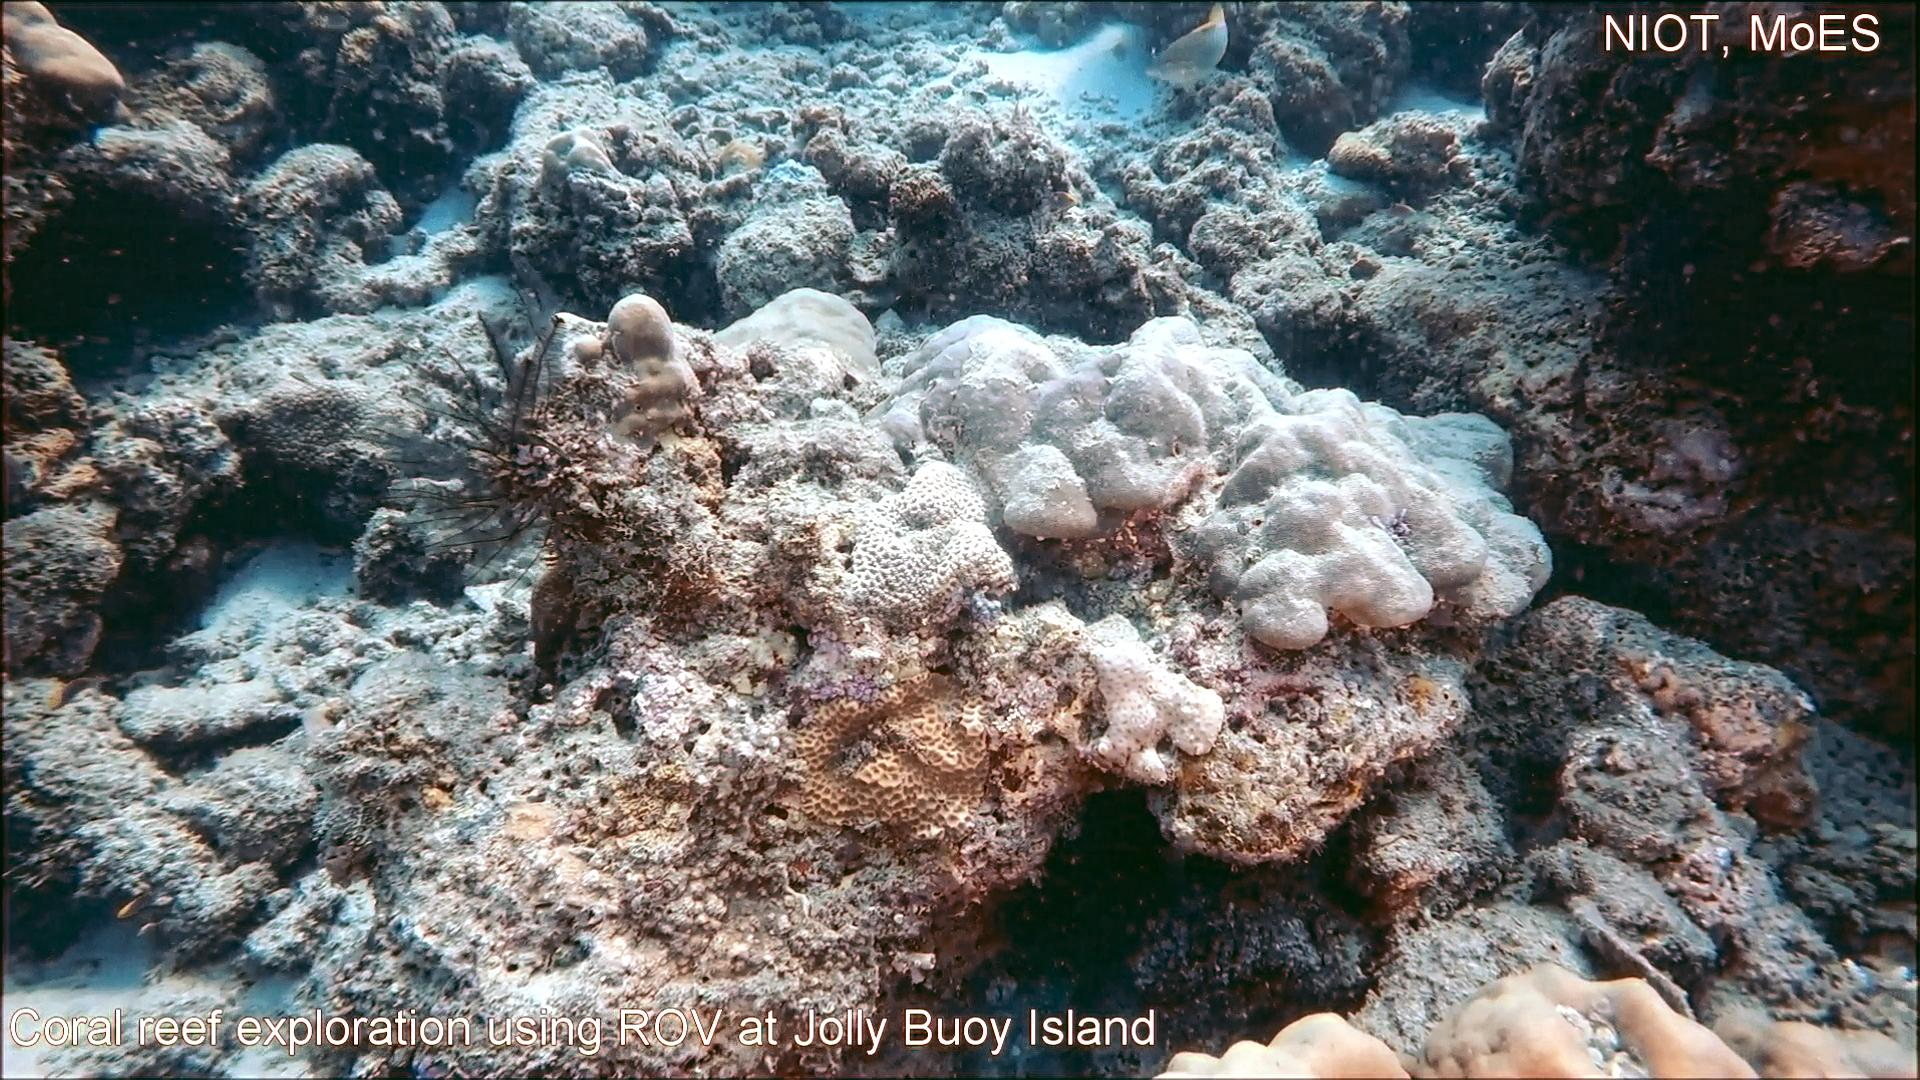Feather star-Crinoid star: (326, 240, 585, 618)
Goniastrea-Goniastrea pectinata: (844, 455, 1022, 642)
Porites-Porites pukoensis: (1100, 306, 1560, 658)
Turbinaria-Turbinaria stellulata: (233, 378, 385, 484)
